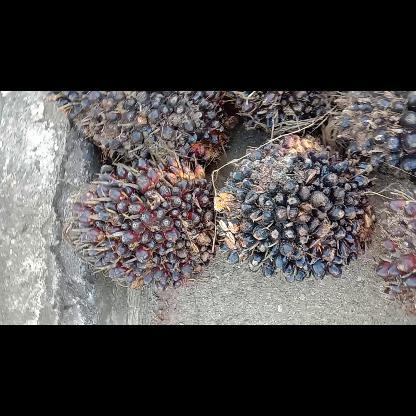TBS mentah: (210, 130, 378, 283), (60, 156, 224, 294), (44, 91, 240, 175), (326, 91, 414, 185), (226, 90, 336, 142)
